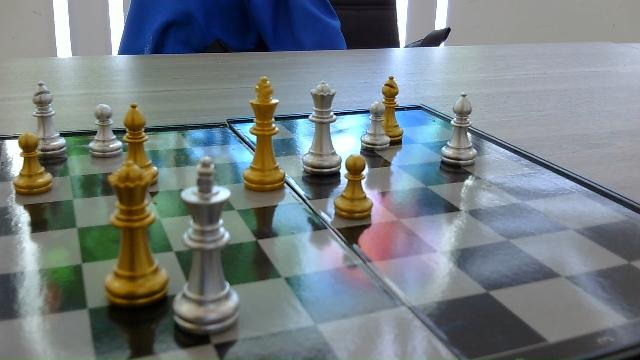black_bishop: (383, 76, 406, 140), (126, 102, 151, 160)
black_king: (244, 76, 286, 192)
black_pawn: (334, 155, 375, 219), (13, 132, 44, 195)
black_queen: (105, 163, 165, 304)
white_bishop: (441, 91, 479, 166), (38, 82, 69, 155)
white_king: (174, 155, 239, 333)
white_pawn: (88, 103, 122, 158), (361, 100, 388, 149)
white_queen: (302, 80, 341, 173)
